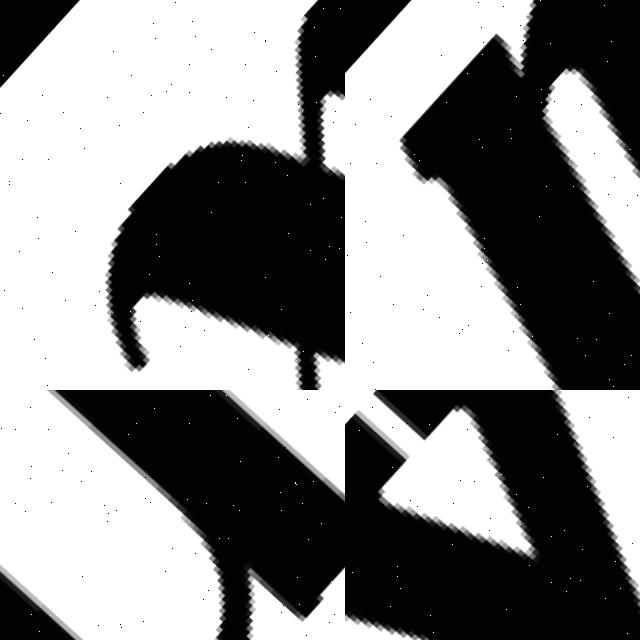N: (345, 0, 640, 390)
U: (0, 390, 345, 640)
X: (0, 0, 345, 390)
Y: (345, 390, 640, 640)
